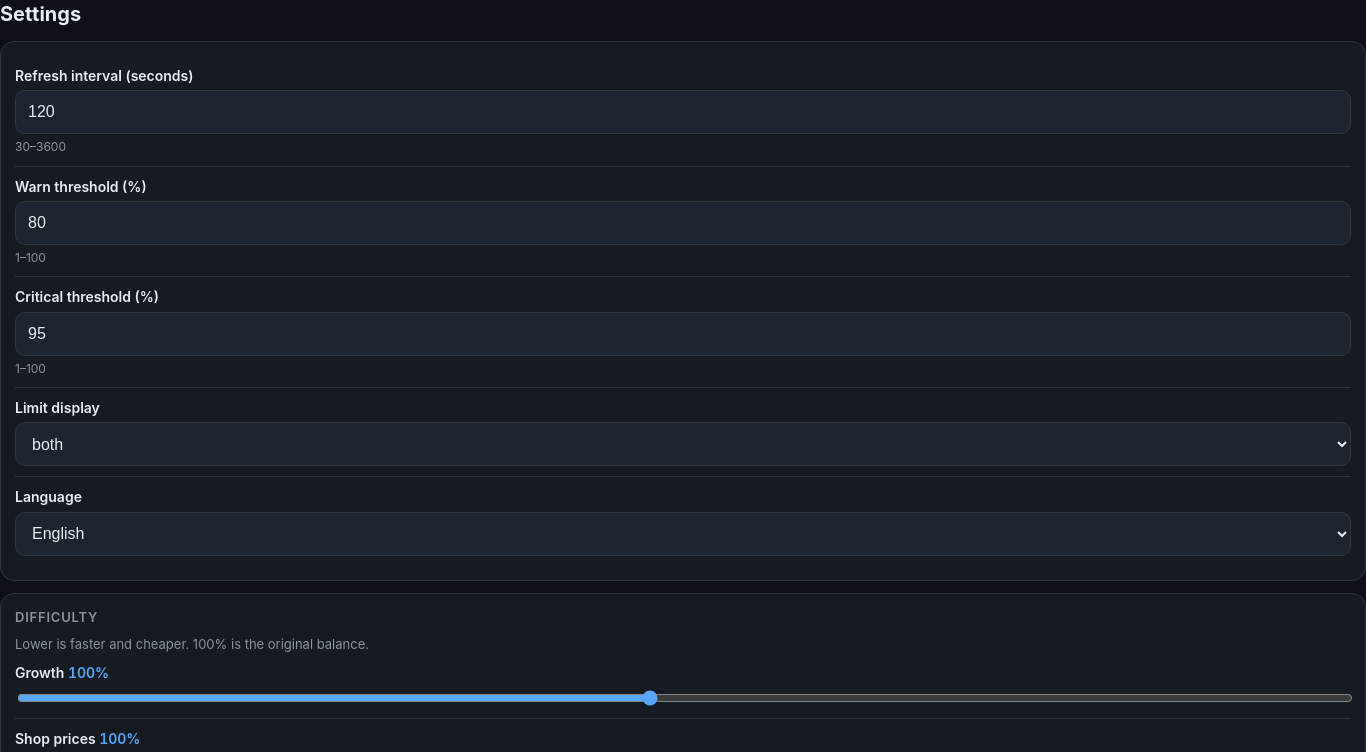
Settings round-trip › confirms a successful save and clears the error
This screenshot has width=1366, height=752.
Replace the text in the number field labelled "Warn threshold (%) 1–100" with "200" at (683, 223), box [15,201,1351,245]
Then press Enter
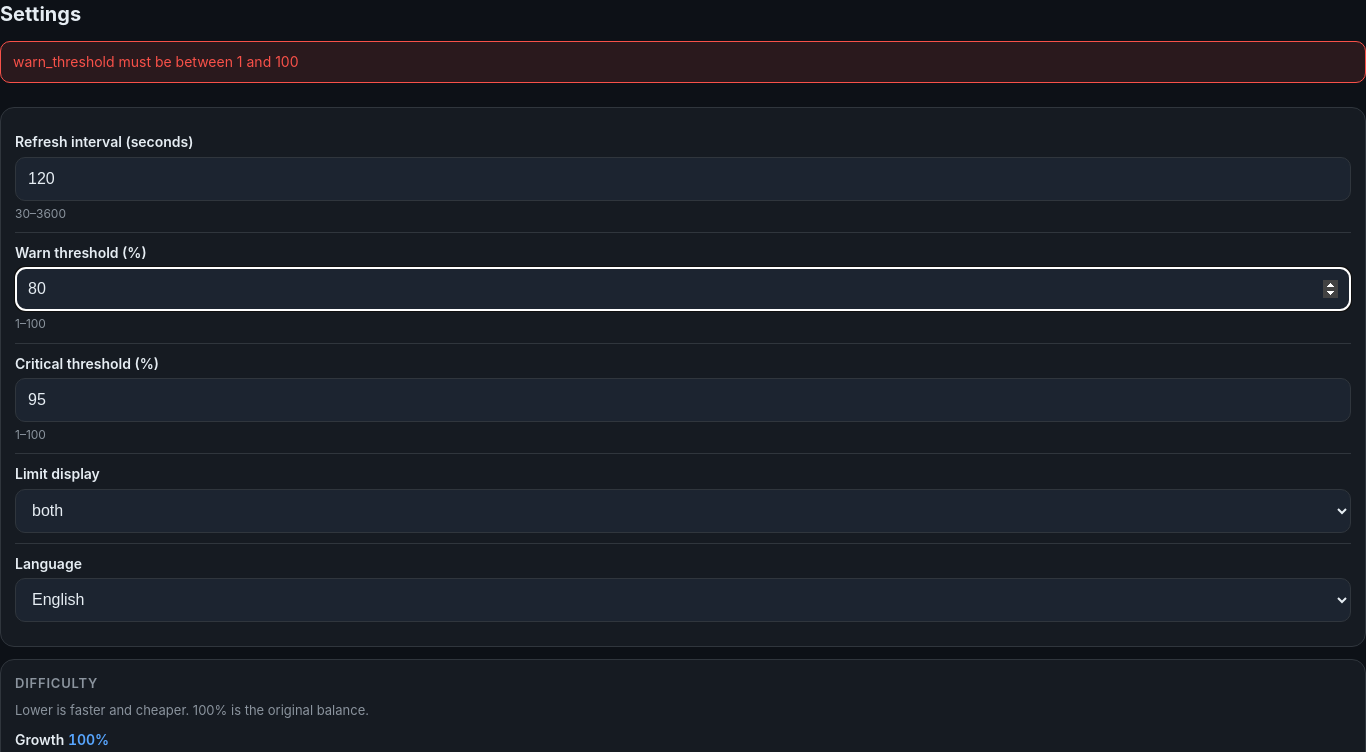
Check: the message "warn_threshold must be between 1 and 100" is shown, box [0,41,1365,83]
Replace the text in the number field labelled "Warn threshold (%) 1–100" with "70" at (683, 289), box [15,267,1351,311]
Then press Enter
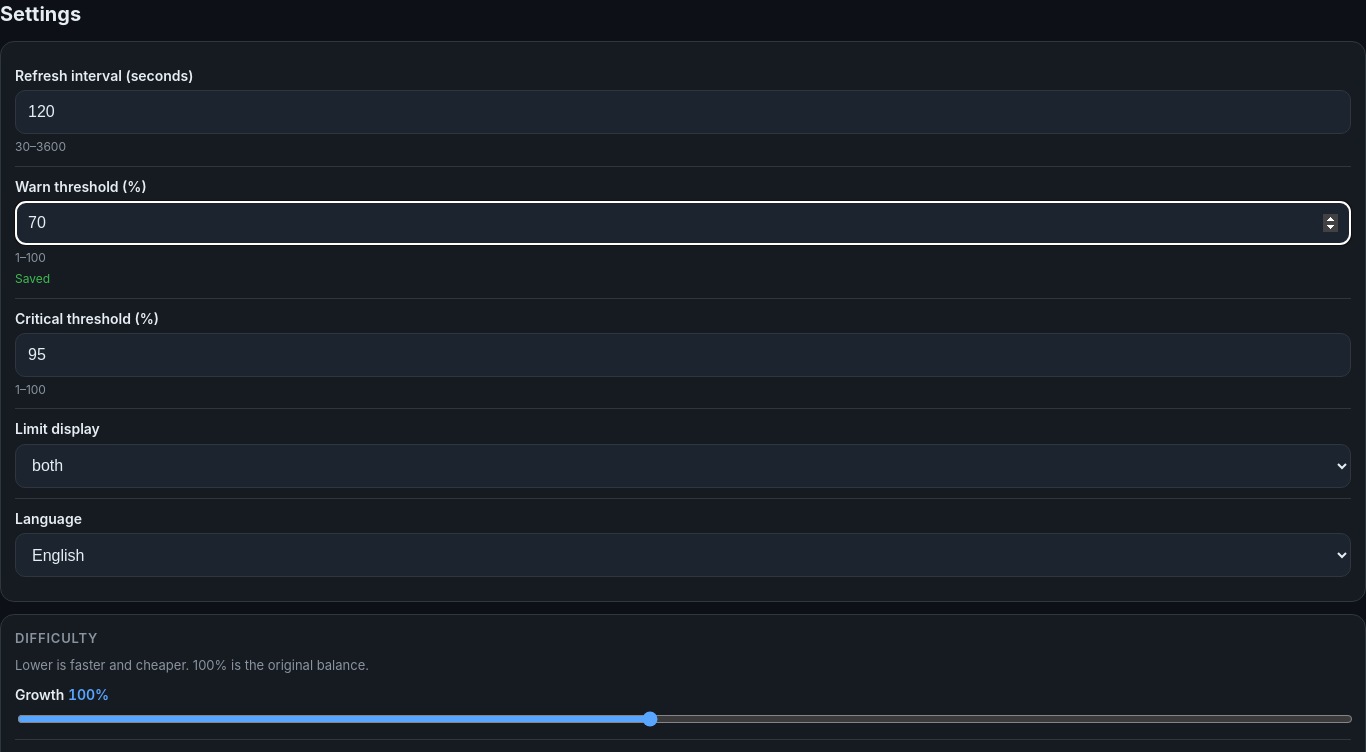
Check: the text "Saved" is shown, box [15,271,50,286]
Check: the message "warn_threshold must be between 1 and 100" is gone
